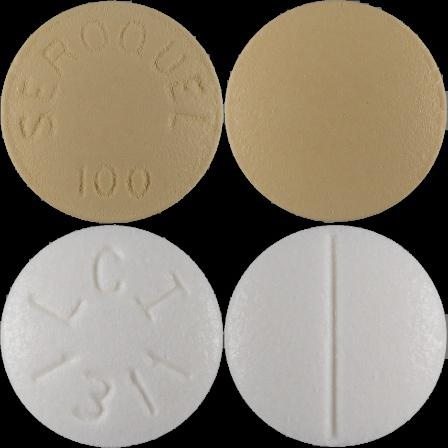21695-120: (0, 0, 224, 224)
